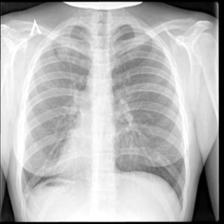tuberculosis: (13, 17, 190, 222)
